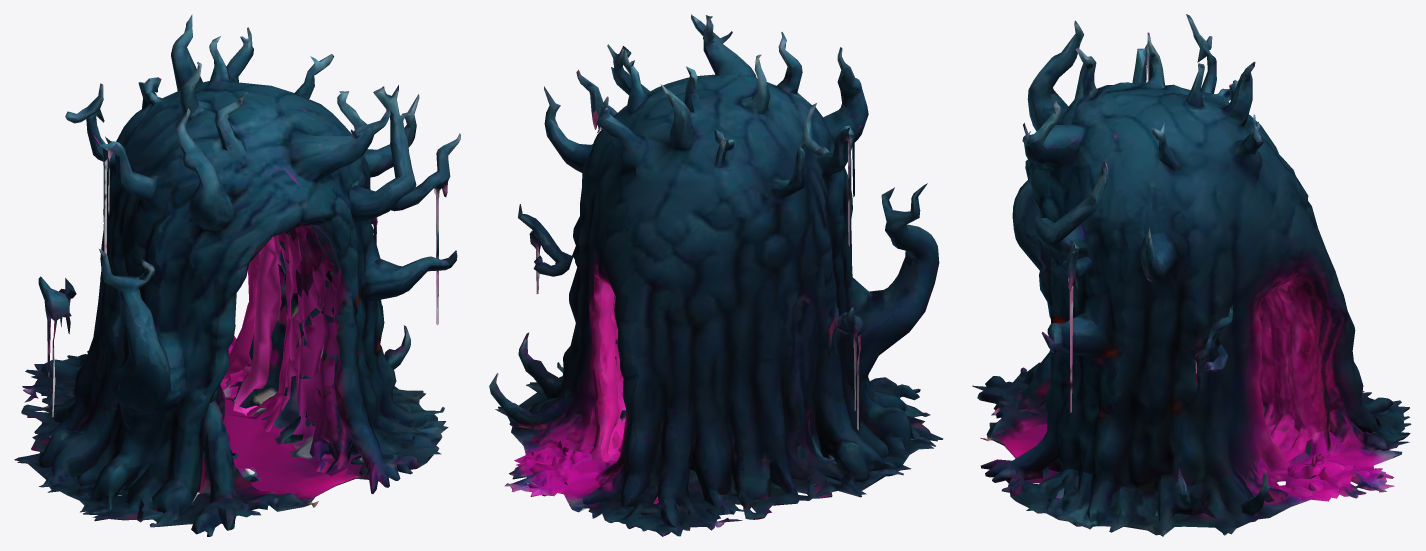
Rendered from tunnel-root-1-generated-2026-05-17T19-19-26-961Z.low.glb.
The picture shows the model from 3 angles, left to right: view 1: azimuth 30°, elevation 25°; view 2: azimuth 150°, elevation 25°; view 3: azimuth 270°, elevation 25°; orthographic projection. The views are drawn at different scales.
Visible parts, largest first — view 1: temp_mesh.ply; view 2: temp_mesh.ply; view 3: temp_mesh.ply.
Part boxes in pixels (x1,y1,x2,y2): temp_mesh.ply: [14, 14, 460, 536]; temp_mesh.ply: [489, 14, 943, 536]; temp_mesh.ply: [972, 14, 1411, 536].
Size of the model in its own units: 1.95 by 1.89 by 1.93.
Materials: 1 (1 with a texture image).
